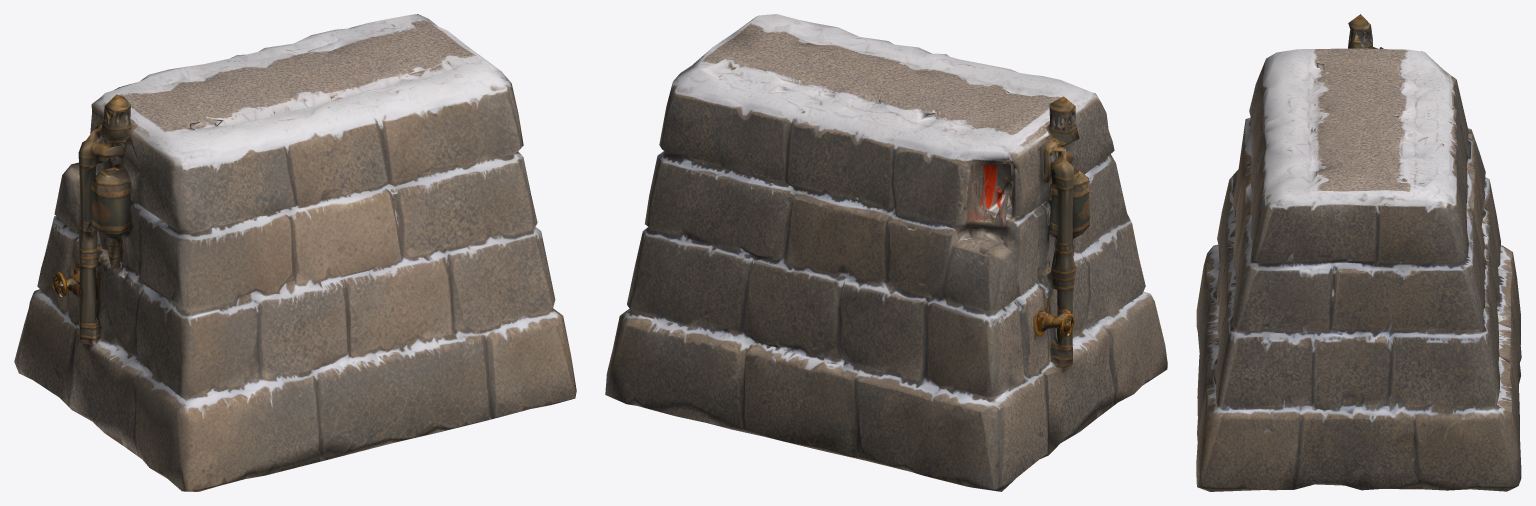
Rendered from PR_GateStoneBase.fbx.
3 renders of one model, left to right at view 1: azimuth 30°, elevation 25°; view 2: azimuth 150°, elevation 25°; view 3: azimuth 270°, elevation 25°, orthographic. The views are drawn at different scales.
Parts seen in each view (by area): view 1: texture_mapping; view 2: texture_mapping; view 3: texture_mapping.
Part boxes in pixels (left/top/right/bottom): texture_mapping: left=14, top=14, right=576, bottom=491; texture_mapping: left=605, top=14, right=1167, bottom=491; texture_mapping: left=1196, top=14, right=1521, bottom=491.
Bounding box in the file's own units: 0.9964 × 0.7395 × 0.7811.
1 material, 1 textured.
